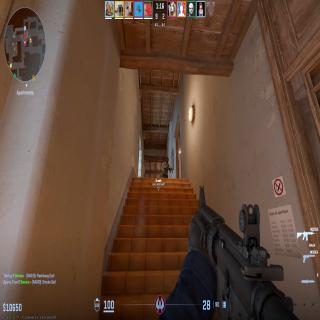T-Body: (162, 157, 170, 178)
T-Head: (165, 157, 169, 163)
